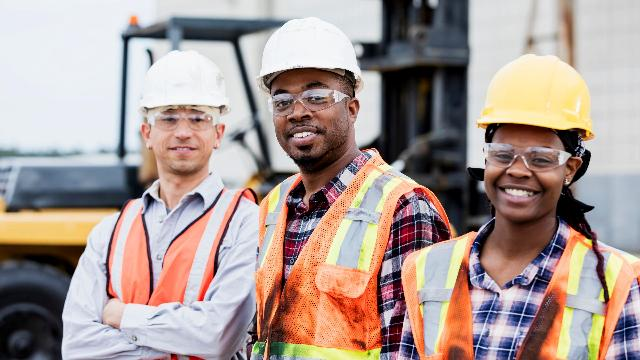helmet: (479, 52, 595, 140), (257, 15, 363, 85), (140, 54, 230, 109)
vest: (258, 164, 460, 360), (400, 215, 640, 360), (112, 186, 254, 360)
